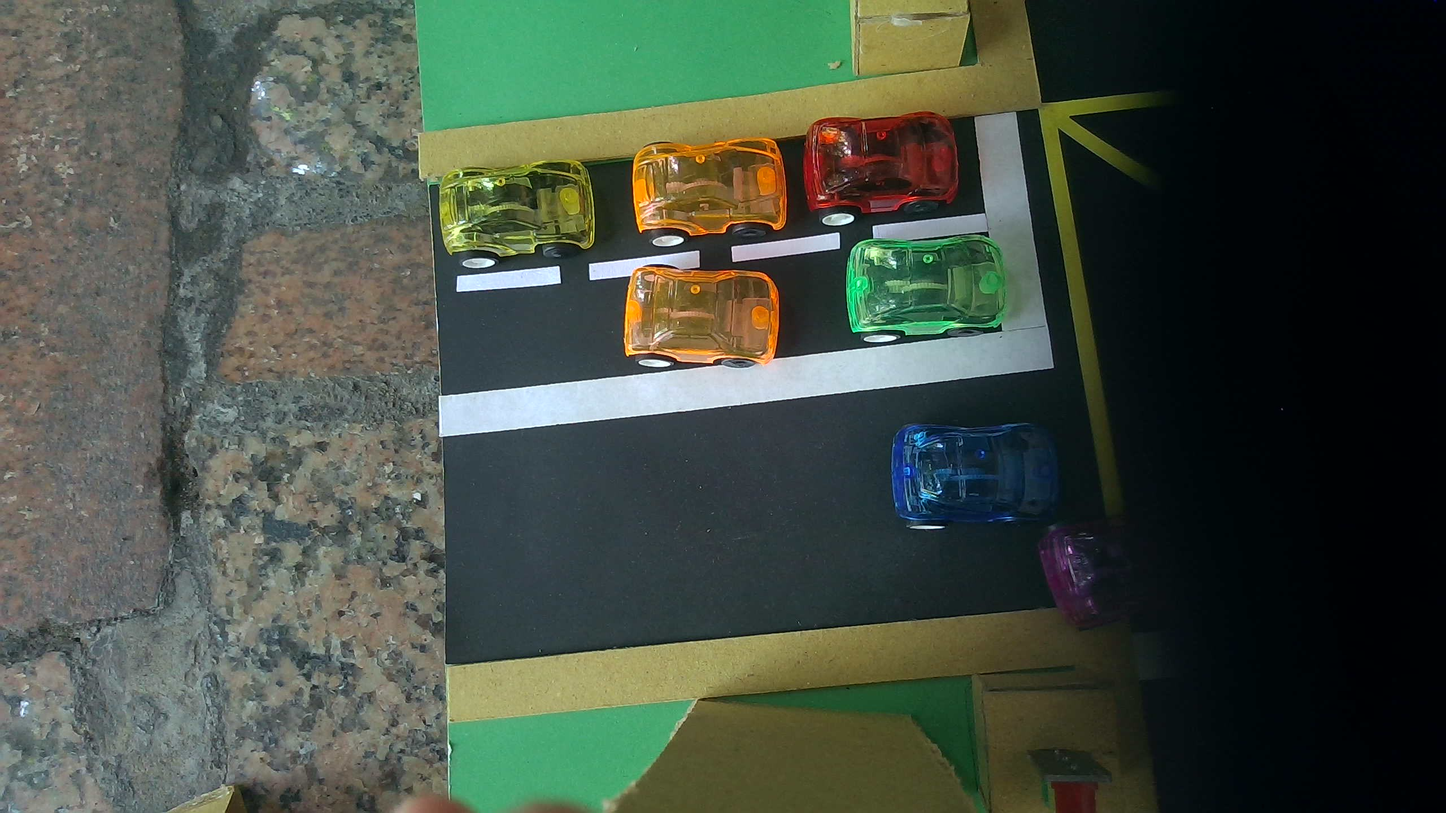Mobil hijau: (846, 235, 1008, 343)
Mobil kuning: (438, 161, 595, 268)
Mobil merah: (802, 111, 959, 226)
Mobil orange: (631, 139, 787, 246), (622, 265, 779, 368)
